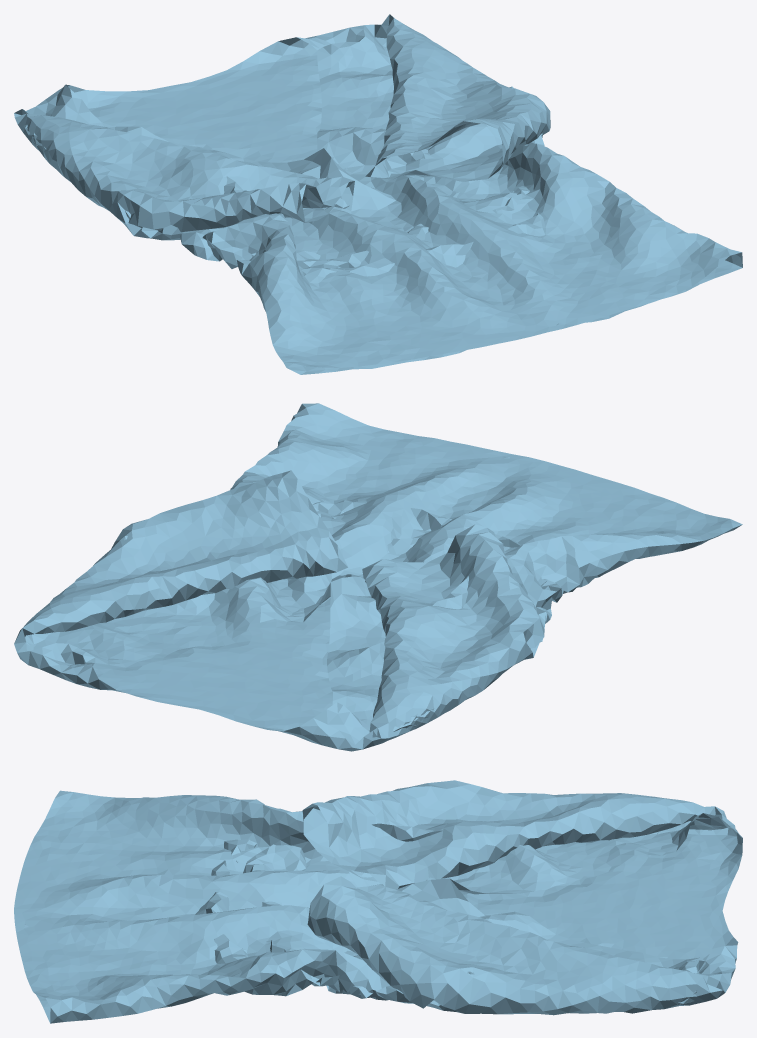
File: frame_20.glb
The picture shows the model from 3 angles, top to bottom: view 1: azimuth 30°, elevation 25°; view 2: azimuth 150°, elevation 25°; view 3: azimuth 270°, elevation 25°; orthographic projection. The views are drawn at different scales.
Parts seen in each view (by area): view 1: frame_20.obj; view 2: frame_20.obj; view 3: frame_20.obj.
Part boxes in pixels (x1,y1,x2,y2): frame_20.obj: (14, 14, 742, 374); frame_20.obj: (14, 403, 742, 751); frame_20.obj: (14, 780, 742, 1023).
Bounding box in the file's own units: 1.16 × 0.2054 × 1.58.
